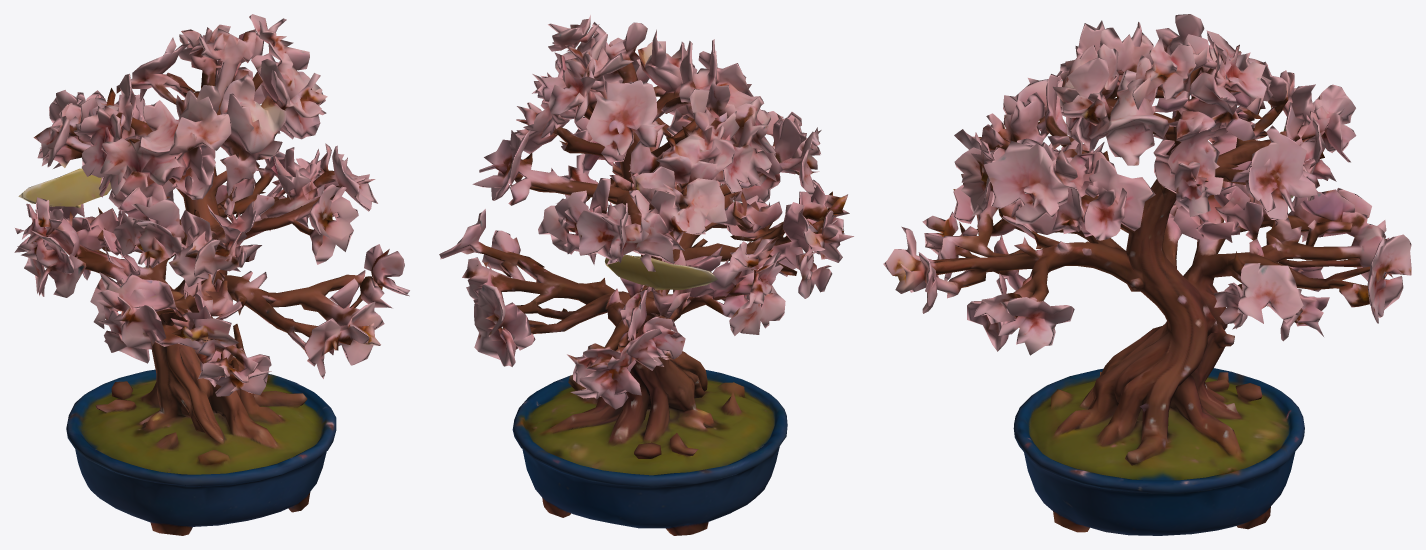
File: au_furn_bonsai_sakura.glb
3 renders of one model, left to right at view 1: azimuth 30°, elevation 25°; view 2: azimuth 150°, elevation 25°; view 3: azimuth 270°, elevation 25°, orthographic. The views are drawn at different scales.
Visible parts, largest first — view 1: tripo_node_944d9abd-7983-4ce2-a7bb-0a36aad6536e; view 2: tripo_node_944d9abd-7983-4ce2-a7bb-0a36aad6536e; view 3: tripo_node_944d9abd-7983-4ce2-a7bb-0a36aad6536e.
Part boxes in pixels (bbox=[...]): tripo_node_944d9abd-7983-4ce2-a7bb-0a36aad6536e: bbox=[14, 14, 409, 535]; tripo_node_944d9abd-7983-4ce2-a7bb-0a36aad6536e: bbox=[439, 15, 853, 535]; tripo_node_944d9abd-7983-4ce2-a7bb-0a36aad6536e: bbox=[883, 14, 1411, 535].
Bounding box in the file's own units: 0.2385 × 0.35 × 0.3415.
1 material, 1 textured.
